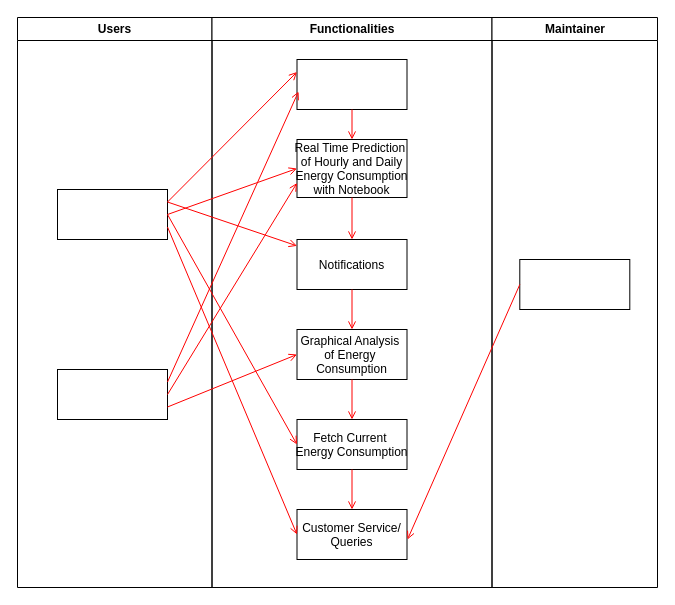
The diagram is 675 pixels wide and 605 high, and some of its shapes have lost their labels. The shapes that lost their labels are listed below. From the top down, each one's centre as x and y in pixels, then its label:
point (351, 84): User Interface (Webapp)
point (112, 214): Owner of Complex
point (574, 284): Maintenance Team
point (112, 394): Finance Department
